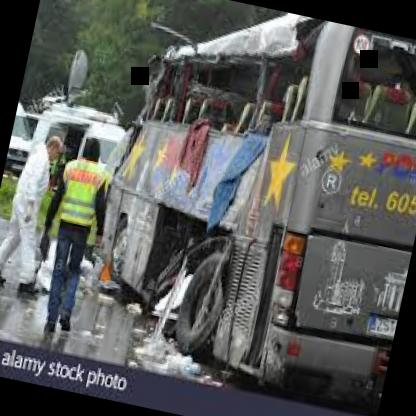accident: (65, 7, 416, 416)
